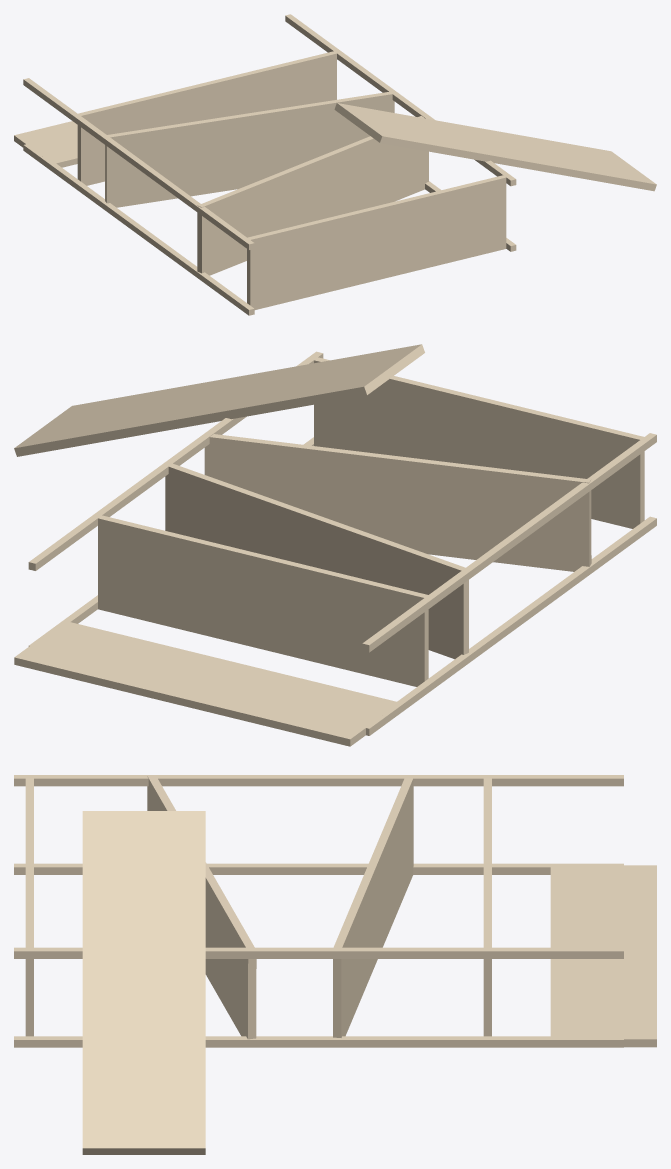
The model's file is ShelfKirik.fbx.
The picture shows the model from 3 angles, top to bottom: view 1: azimuth 30°, elevation 25°; view 2: azimuth 150°, elevation 25°; view 3: azimuth 270°, elevation 25°; orthographic projection. The views are drawn at different scales.
Parts seen in each view (by area): view 1: Shelves1; view 2: Shelves1; view 3: Shelves1.
Part boxes in pixels (<box>): Shelves1: <box>14,14,656,315</box>; Shelves1: <box>14,344,656,746</box>; Shelves1: <box>14,775,656,1154</box>.
Bounding box in the file's own units: 235 × 63.59 × 223.
